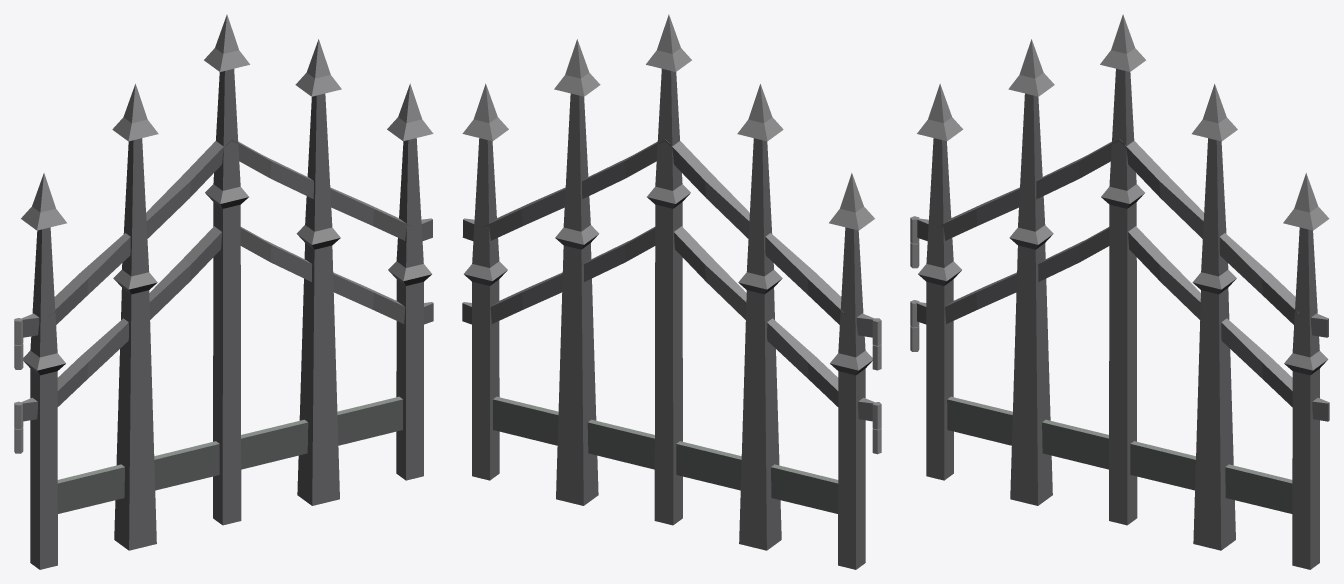
Rendered from Door_Genesis.glb.
3 views of the same model, side by side, from view 1: azimuth 30°, elevation 25°; view 2: azimuth 150°, elevation 25°; view 3: azimuth 330°, elevation 25° (orthographic).
Visible parts, largest first — view 1: FenceIronDoor_01; view 2: FenceIronDoor_01; view 3: FenceIronDoor_01.
Boxes of the visible parts, x1=… form: FenceIronDoor_01: x1=14, y1=14, x2=433, y2=569; FenceIronDoor_01: x1=462, y1=14, x2=881, y2=569; FenceIronDoor_01: x1=910, y1=14, x2=1329, y2=569.
Size of what is drawn, in the model's own units: 1.92 by 2.22 by 0.1294.
1 material, 1 textured.
